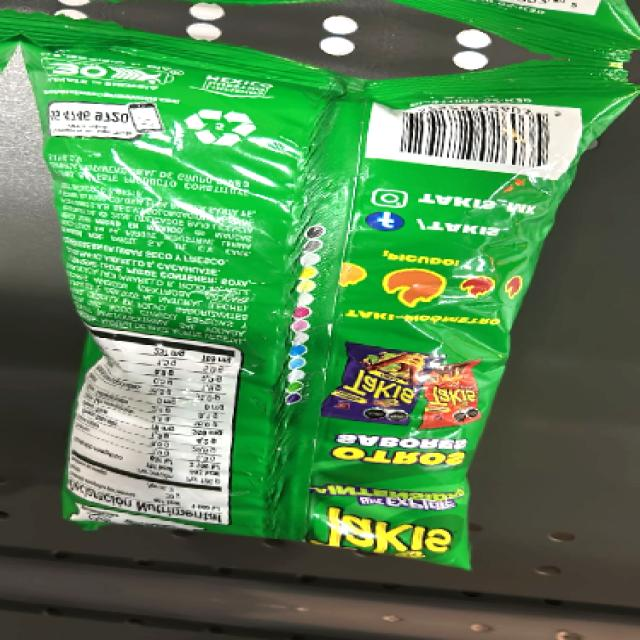productoAtras: (72, 43, 476, 566)
